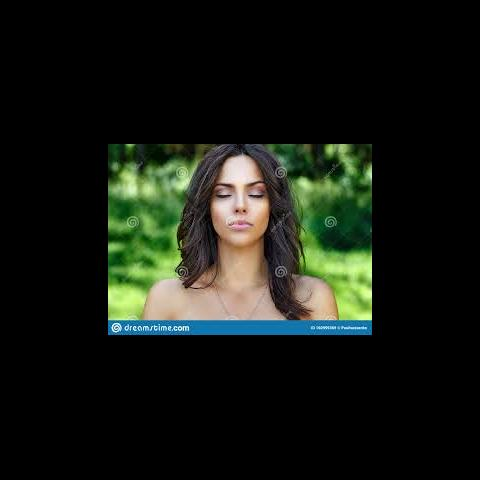closed: (208, 177, 270, 204)
